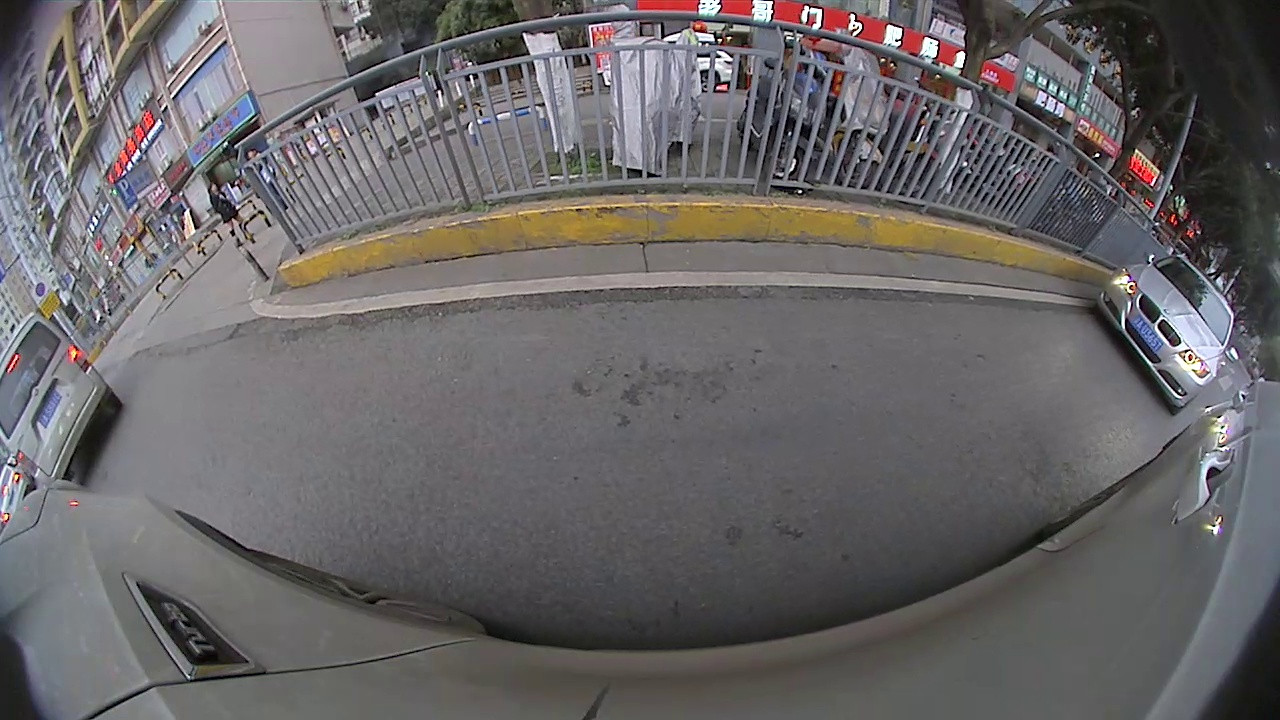car: (1087, 247, 1243, 419), (2, 306, 122, 485)
front: (760, 134, 815, 190), (836, 142, 883, 189)
person: (204, 181, 258, 251)
rear: (698, 70, 720, 93)
rider: (734, 32, 835, 195), (824, 36, 899, 192)
